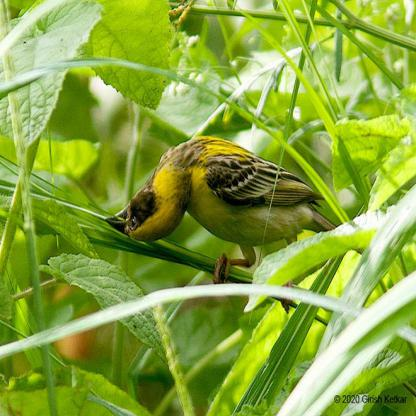Burung: (106, 135, 336, 312)
